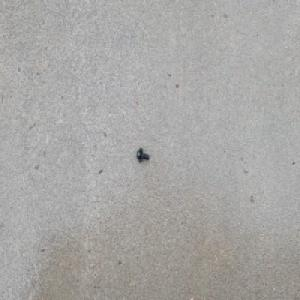BoltWasher: (135, 147, 149, 164)
